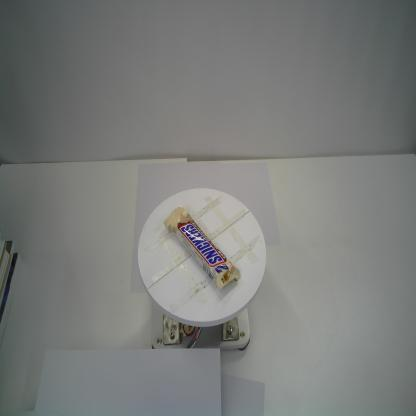Chocolate: (162, 202, 242, 292)
